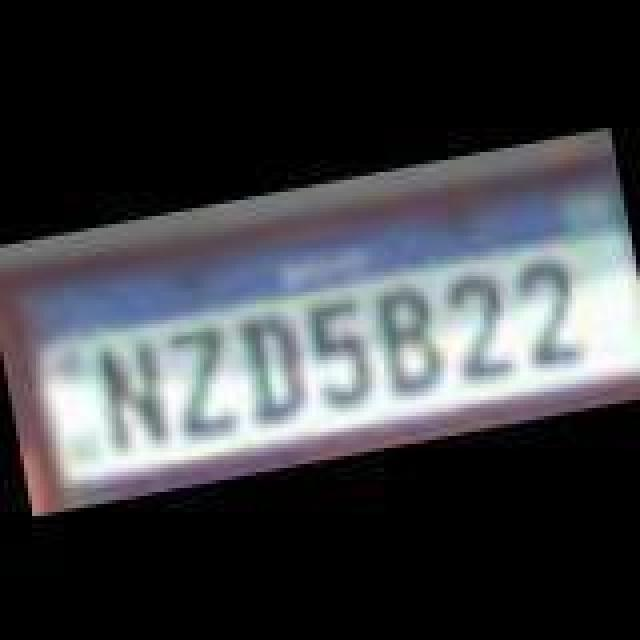2: (510, 246, 594, 378), (428, 264, 516, 384)
5: (302, 286, 386, 410)
8: (370, 274, 446, 398)
D: (244, 310, 316, 426)
N: (90, 338, 166, 454)
Z: (158, 314, 242, 446)
